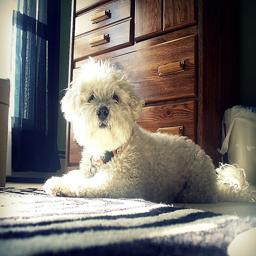dog: (128, 83, 256, 256)
